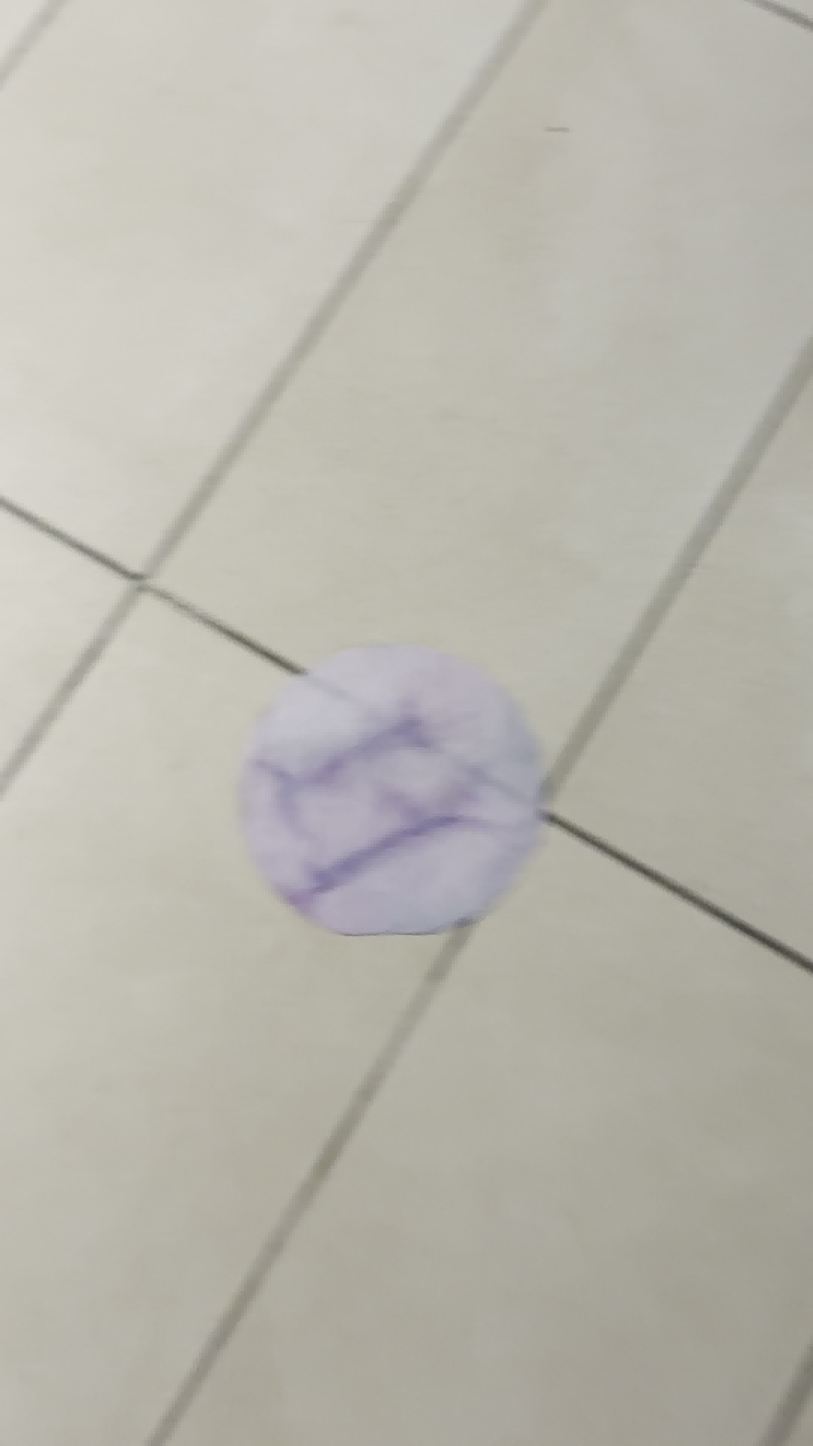Target: (231, 642, 540, 941)
